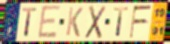E: (37, 4, 62, 40)
F: (129, 5, 153, 40)
K: (64, 6, 84, 38)
T: (113, 6, 130, 38), (21, 7, 38, 38)
X: (84, 5, 108, 40)
